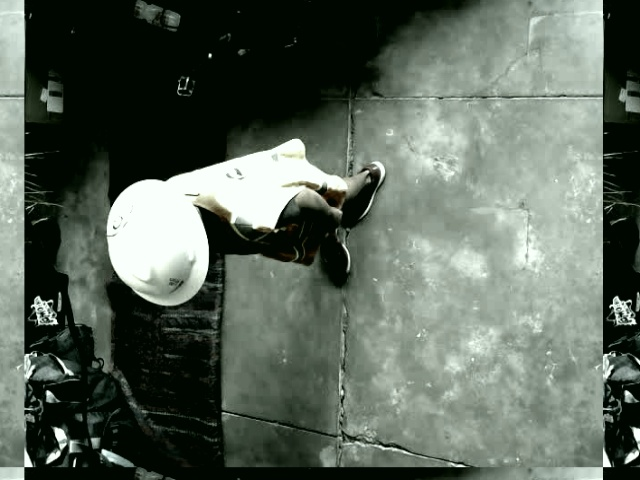eight: (103, 198, 133, 236)
